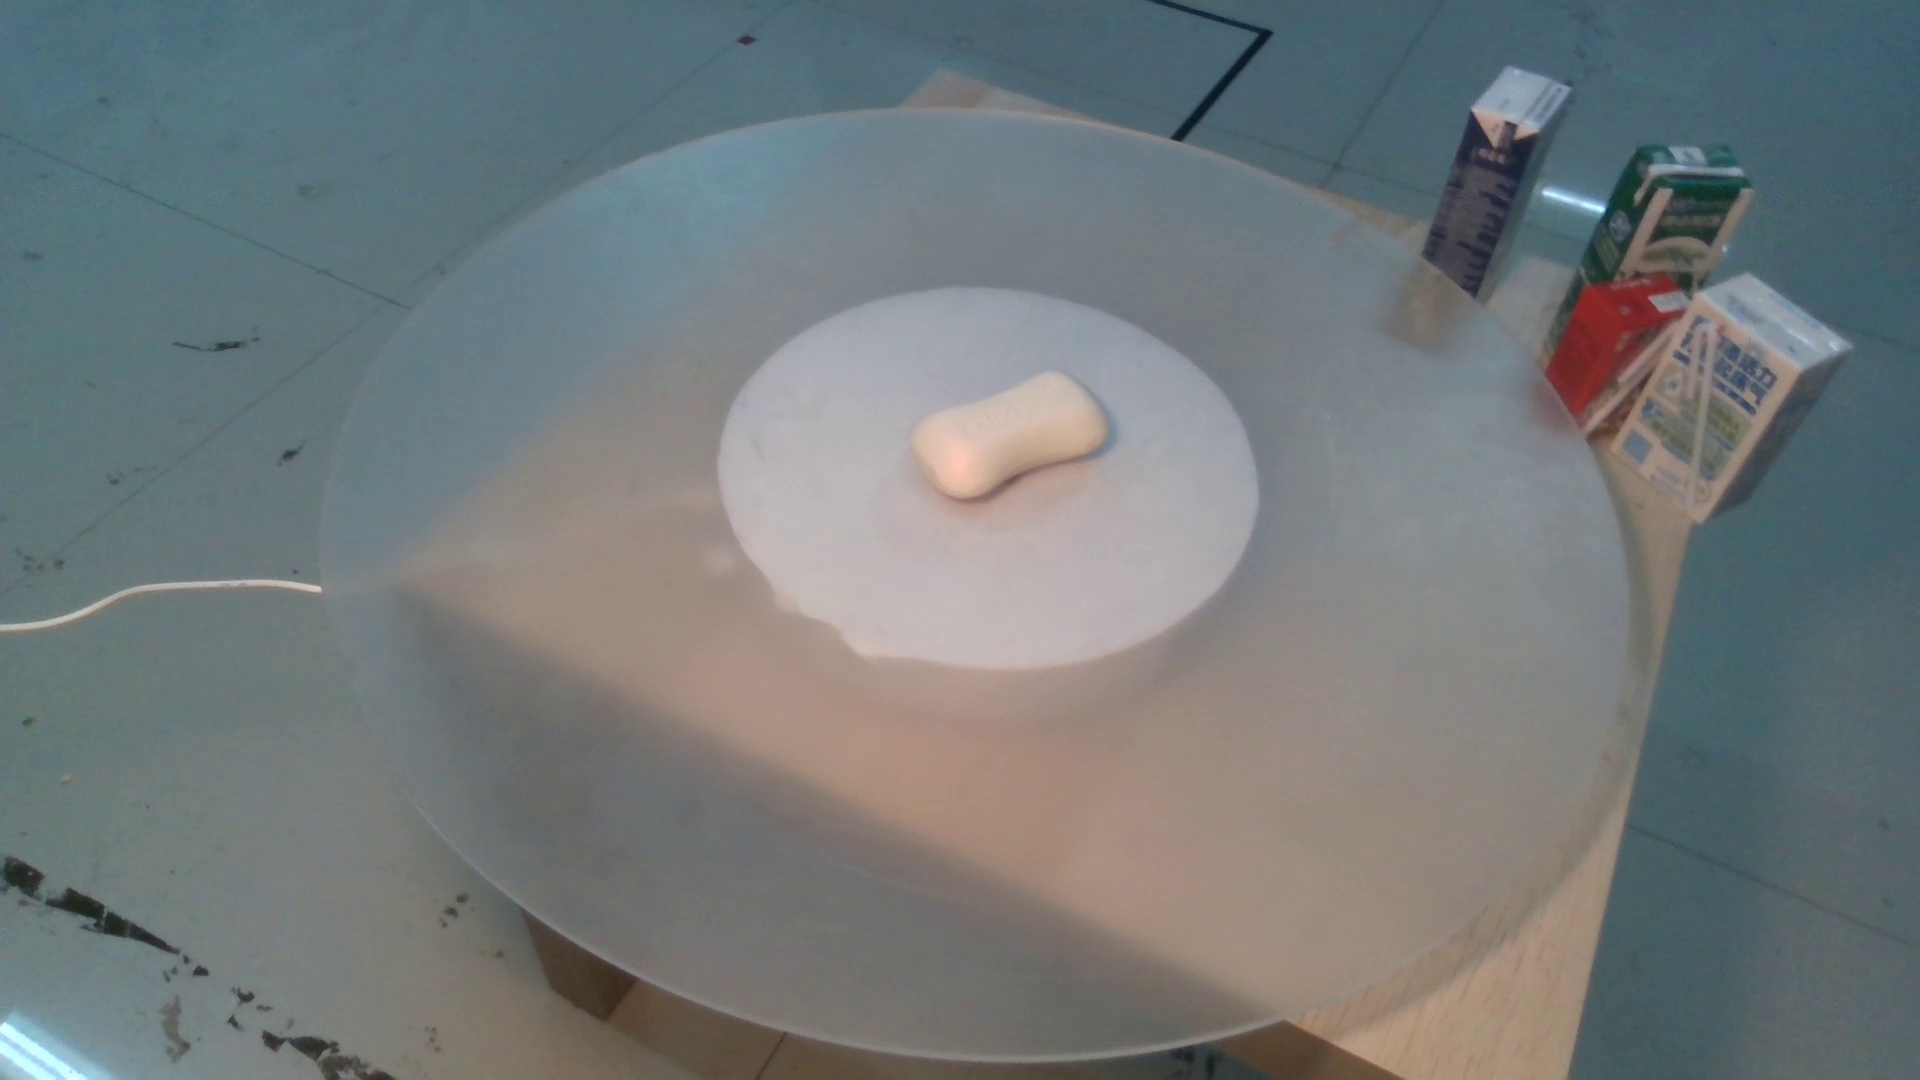CA003_1: (915, 359, 1145, 522)
